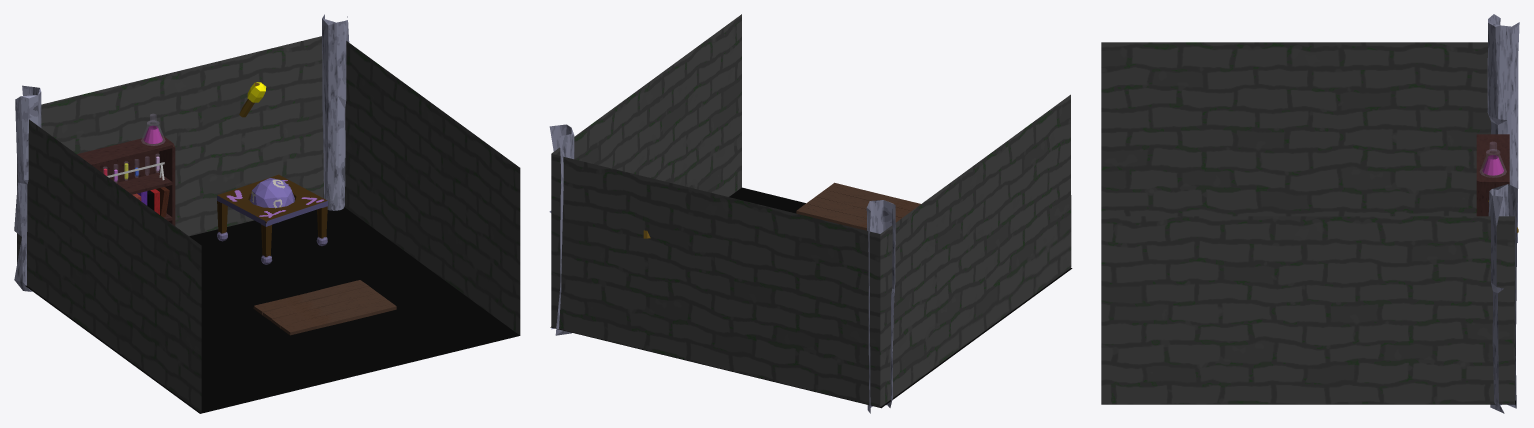
File: scaledungeon.glb
The picture shows the model from 3 angles, left to right: view 1: azimuth 30°, elevation 25°; view 2: azimuth 150°, elevation 25°; view 3: azimuth 270°, elevation 25°; orthographic projection. The views are drawn at different scales.
Parts seen in each view (by area): view 1: Wall, Floor, Pillar, Table, Bookshelf, MagicTable, MagicBall; view 2: Wall, Pillar, Table, Floor; view 3: Wall, Pillar, Bookshelf, Floor.
Part boxes in pixels (left/top/right/bottom): Wall: left=17, top=36, right=520, bottom=413; Floor: left=25, top=207, right=519, bottom=413; Pillar: left=14, top=14, right=349, bottom=291; Table: left=253, top=280, right=396, bottom=335; Bookshelf: left=77, top=134, right=175, bottom=225; MagicTable: left=217, top=174, right=327, bottom=264; MagicBall: left=250, top=178, right=294, bottom=208; Wall: left=551, top=14, right=1071, bottom=407; Pillar: left=549, top=124, right=895, bottom=413; Table: left=796, top=182, right=920, bottom=230; Floor: left=550, top=187, right=1072, bottom=408; Wall: left=1101, top=42, right=1514, bottom=404; Pillar: left=1487, top=14, right=1519, bottom=413; Bookshelf: left=1476, top=134, right=1509, bottom=216; Floor: left=1101, top=348, right=1515, bottom=404.
Size of the model in its own units: 6.24 by 3.57 by 6.05.
Materials: 13 (8 with a texture image).
